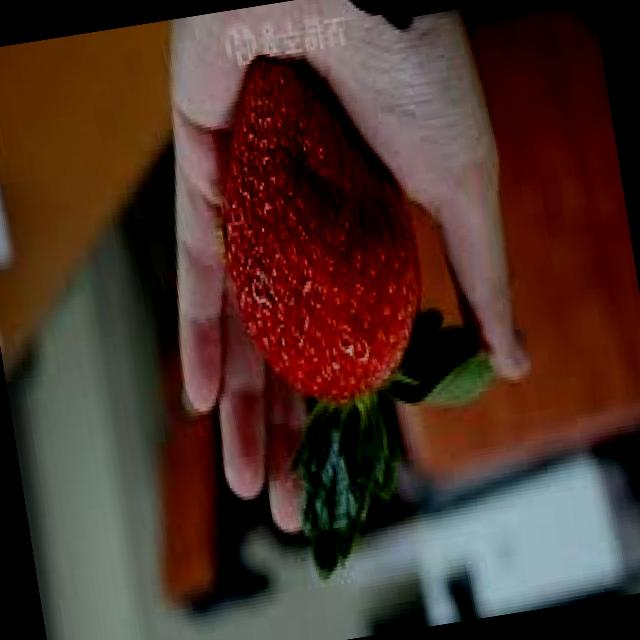Strawberry: (197, 41, 440, 416)
